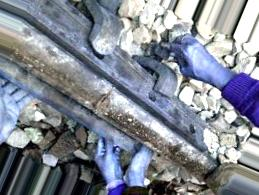tracks_fault: (41, 41, 237, 189)
